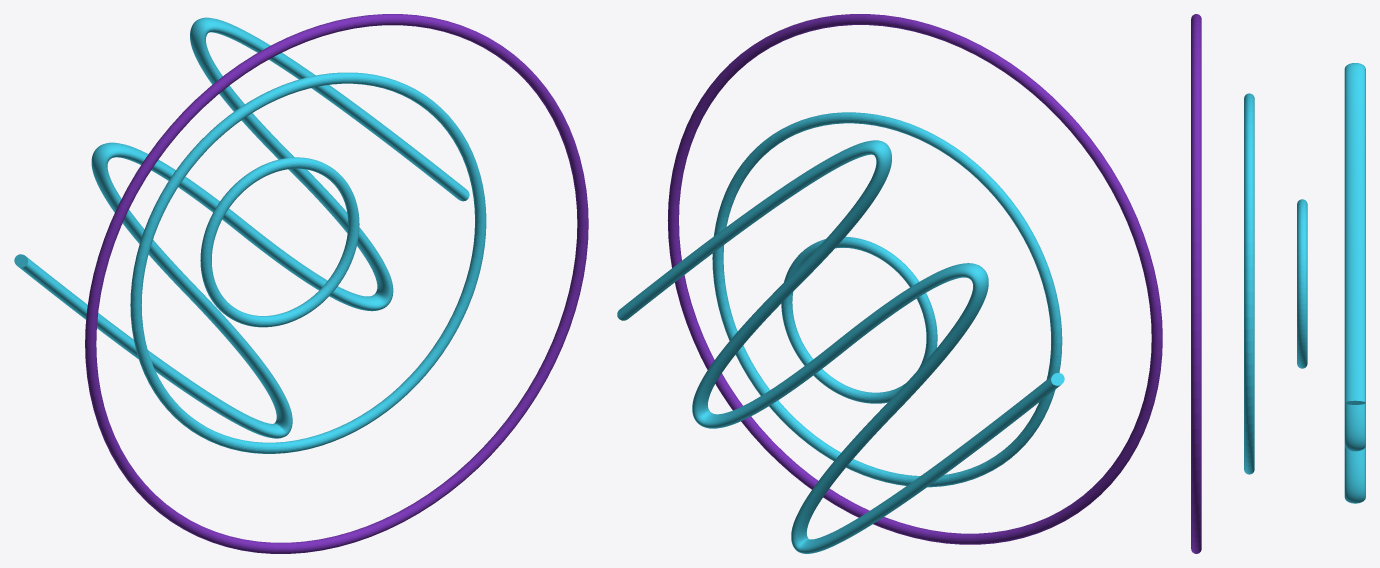
The model's file is donut.glb.
The picture shows the model from 3 angles, left to right: view 1: azimuth 30°, elevation 25°; view 2: azimuth 150°, elevation 25°; view 3: azimuth 270°, elevation 25°; orthographic projection. The views are drawn at different scales.
Parts seen in each view (by area): view 1: Curva NURBS.001, Rosca, Rosca.001, Rosca.002; view 2: Curva NURBS.001, Rosca, Rosca.001, Rosca.002; view 3: Curva NURBS.001, Rosca, Rosca.001, Rosca.002.
Part boxes in pixels (box(x1,y1,x2,y2)): Curva NURBS.001: box(14, 17, 469, 438); Rosca: box(85, 14, 588, 553); Rosca.001: box(130, 72, 486, 453); Rosca.002: box(200, 157, 359, 327); Curva NURBS.001: box(617, 140, 1064, 553); Rosca: box(667, 14, 1162, 544); Rosca.001: box(712, 112, 1062, 487); Rosca.002: box(781, 236, 937, 403); Curva NURBS.001: box(1344, 63, 1365, 503); Rosca: box(1191, 14, 1201, 553); Rosca.001: box(1244, 93, 1254, 474); Rosca.002: box(1297, 199, 1307, 368).
Bounding box in the file's own units: 2.04 × 2.04 × 0.66.
